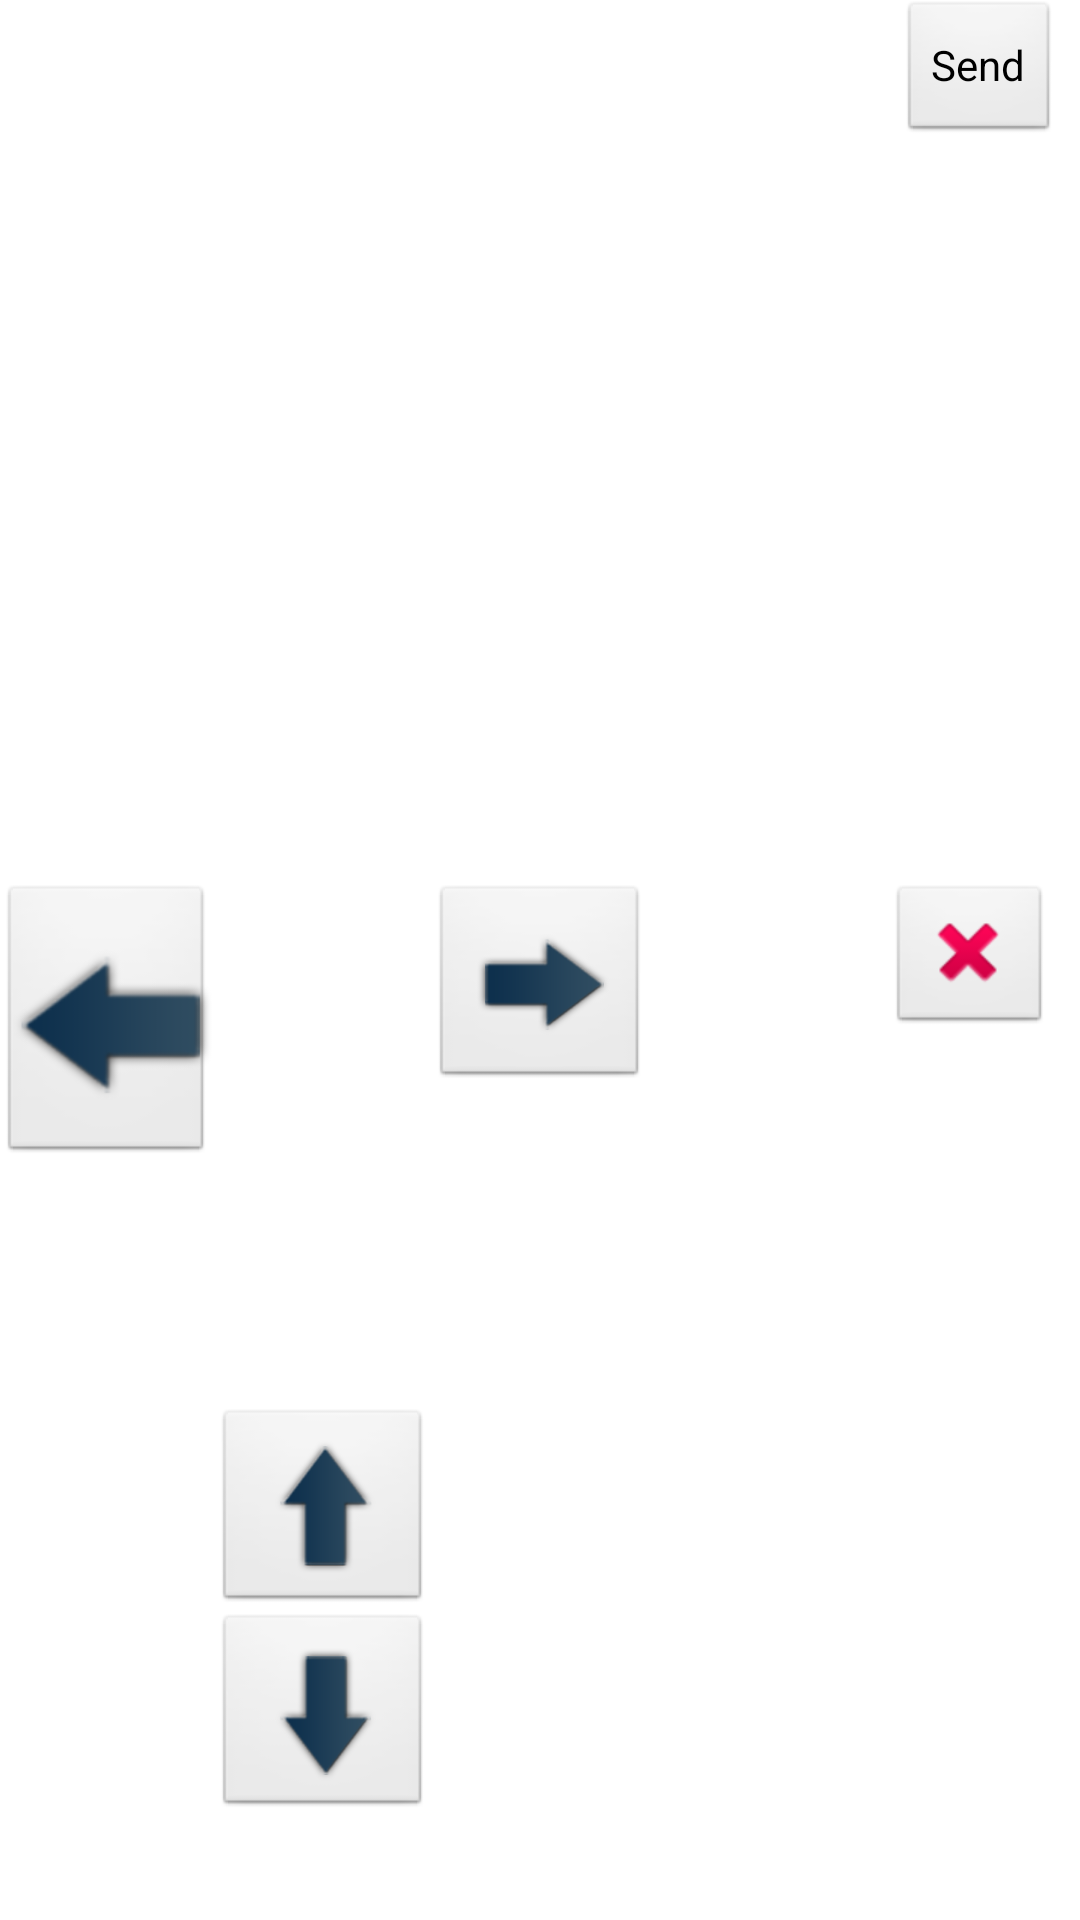

Named icons in this screenshot (1080 x 1920) and their bounding boxes, (x1, y1, x2, y2):
arrowd: (222, 1615, 423, 1806)
arrowl: (7, 886, 209, 1152)
arrowr: (439, 886, 640, 1077)
arrowu: (222, 1410, 423, 1601)
delete: (896, 886, 1043, 1023)
